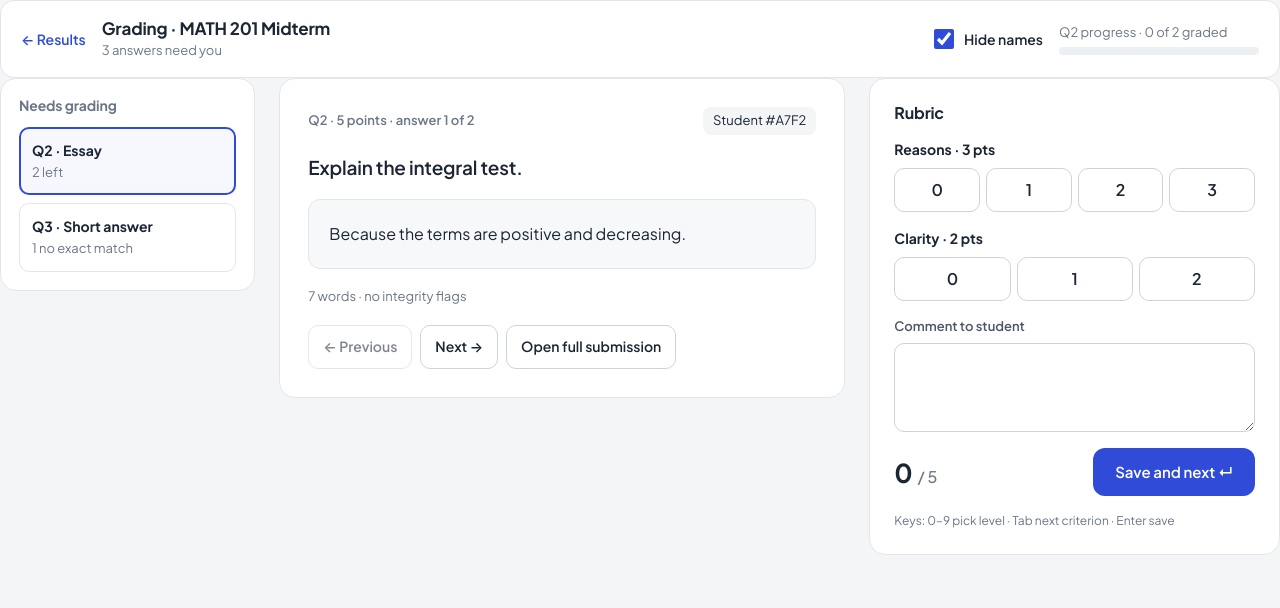
Test: GradingPage › does not save until every criterion has a level
Expected: the text "Student #A7F2" is shown, left=703, top=107, right=816, bottom=134
Click the button named "Reasons: 3 of 3": (1212, 190) left=1169, top=168, right=1255, bottom=212
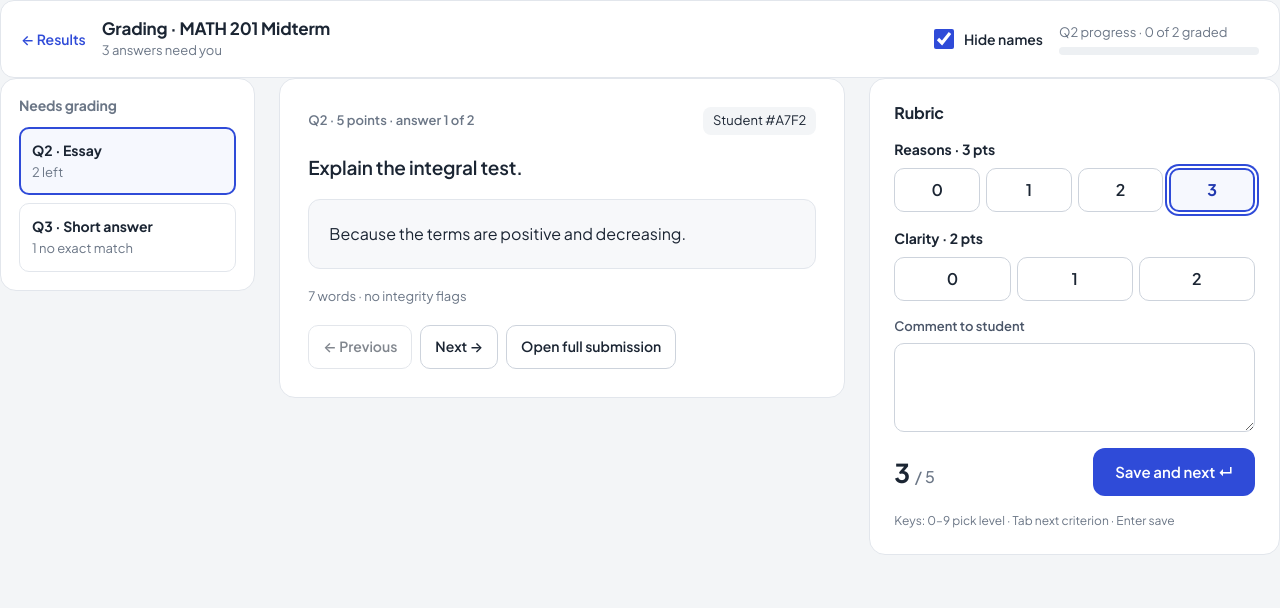
Click the button "Save and next ↵": (1174, 472) left=1093, top=448, right=1255, bottom=496
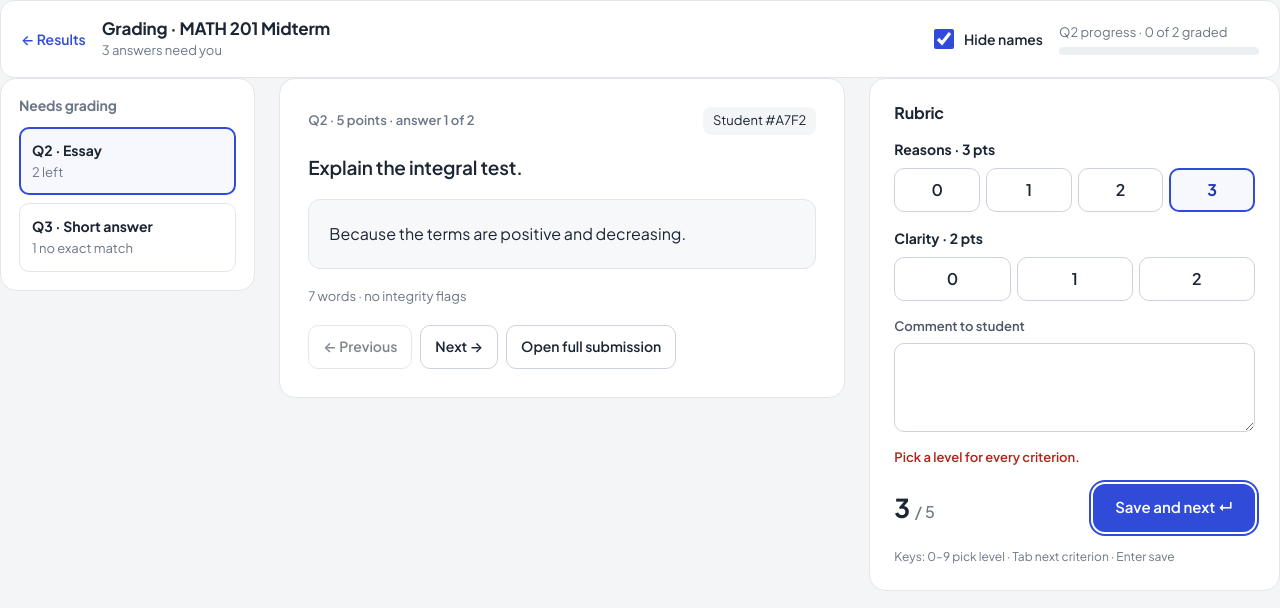
Expected: the message reads "Pick a level for every criterion.", left=894, top=449, right=1080, bottom=465
